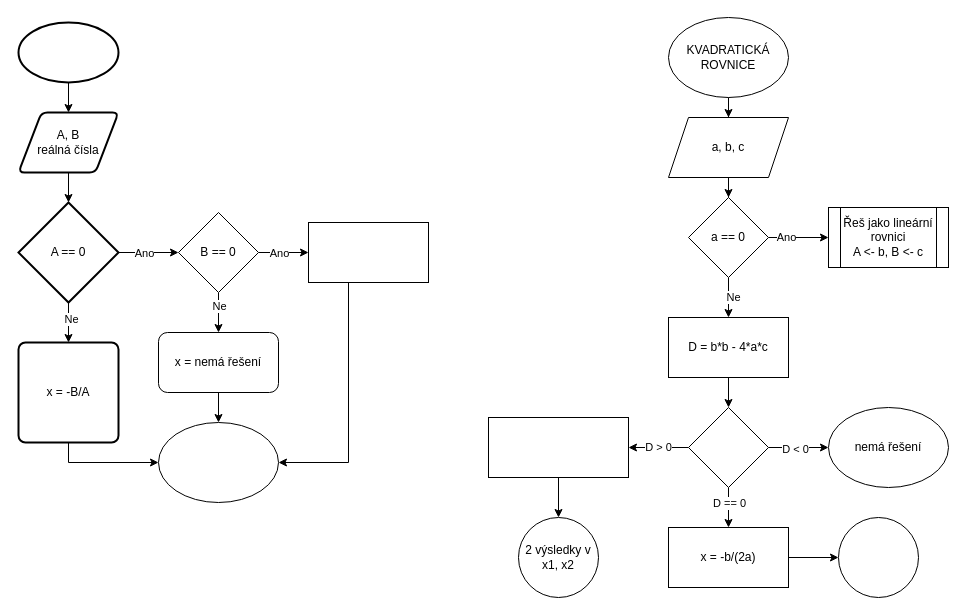
Some shapes in this 966 by 615 pixel diagram are drawn without their labels. Each missing label, with the centre of its shape:
"D?" belongs at pixel 728 447.
"konec Výsledek je v: X" belongs at pixel 218 462.
"Lineární rovnice" belongs at pixel 68 52.
"vysledek je v x" belongs at pixel 878 557.
"x = celé R" belongs at pixel 368 252.
"x1 = (-b+sqrt(D))/(2a) x2 = (-b-sqrt(D))/(2a)" belongs at pixel 558 447.
